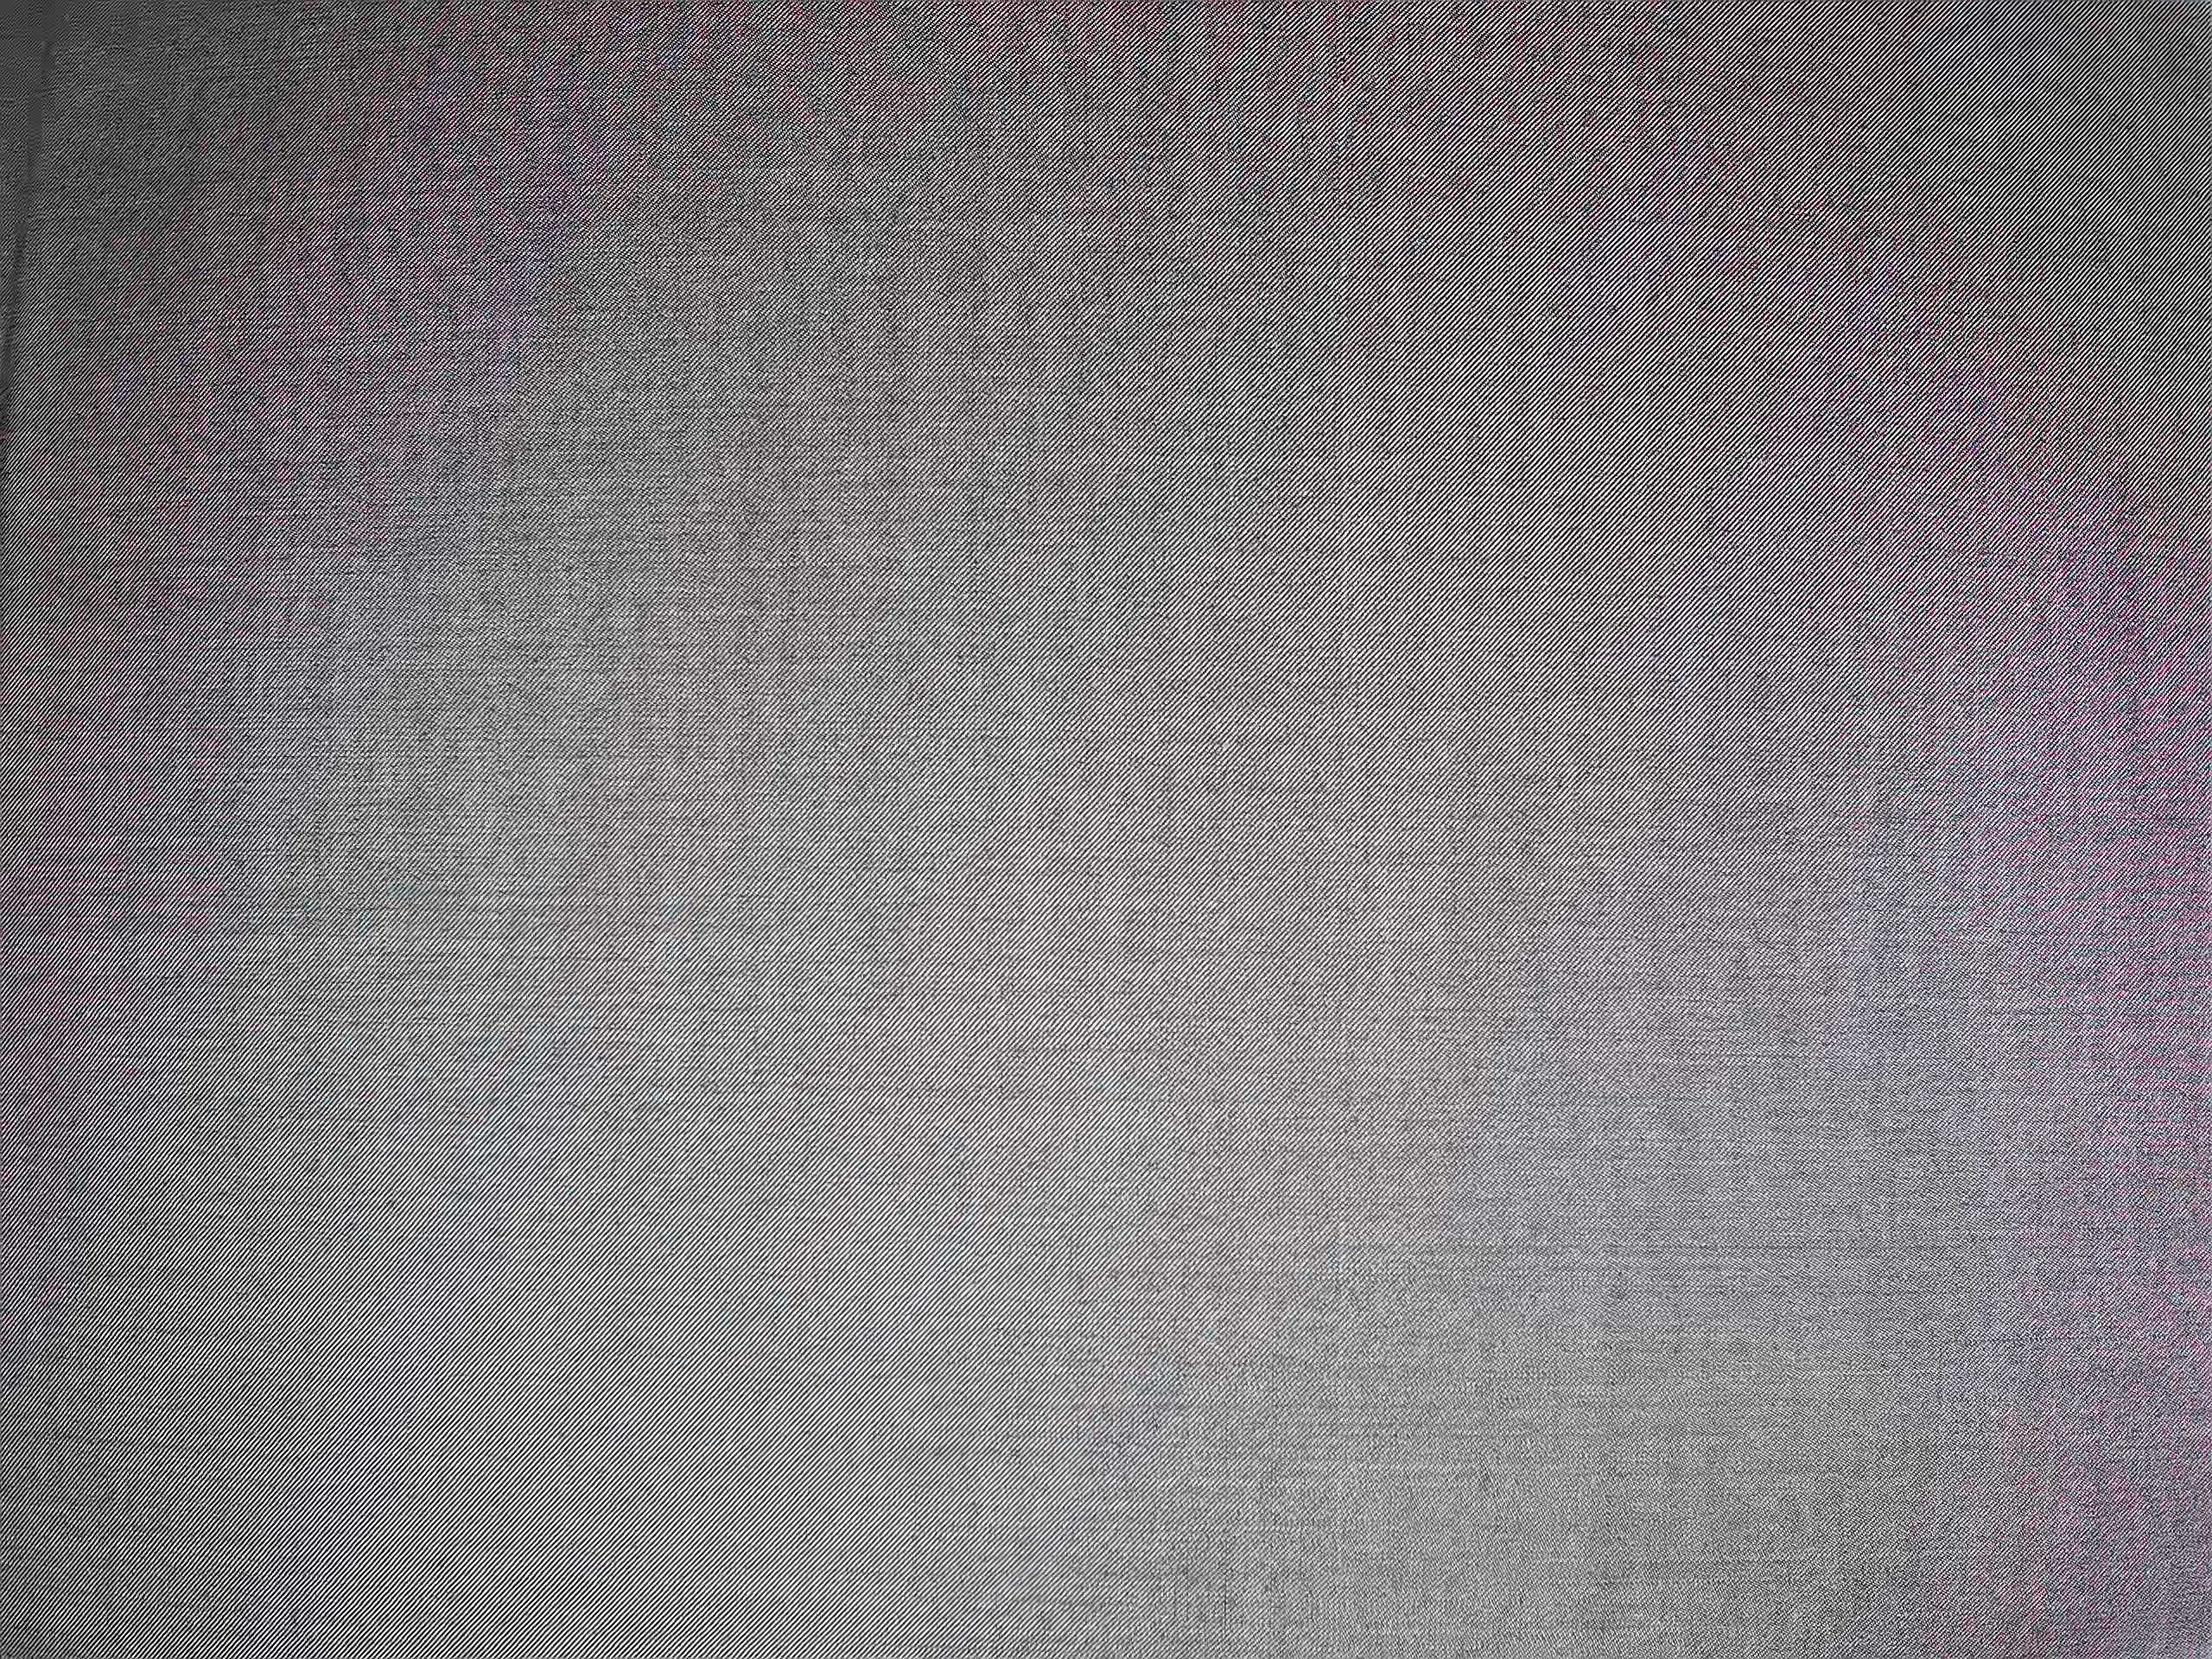hanging-warp: (1317, 9, 1359, 1579)
